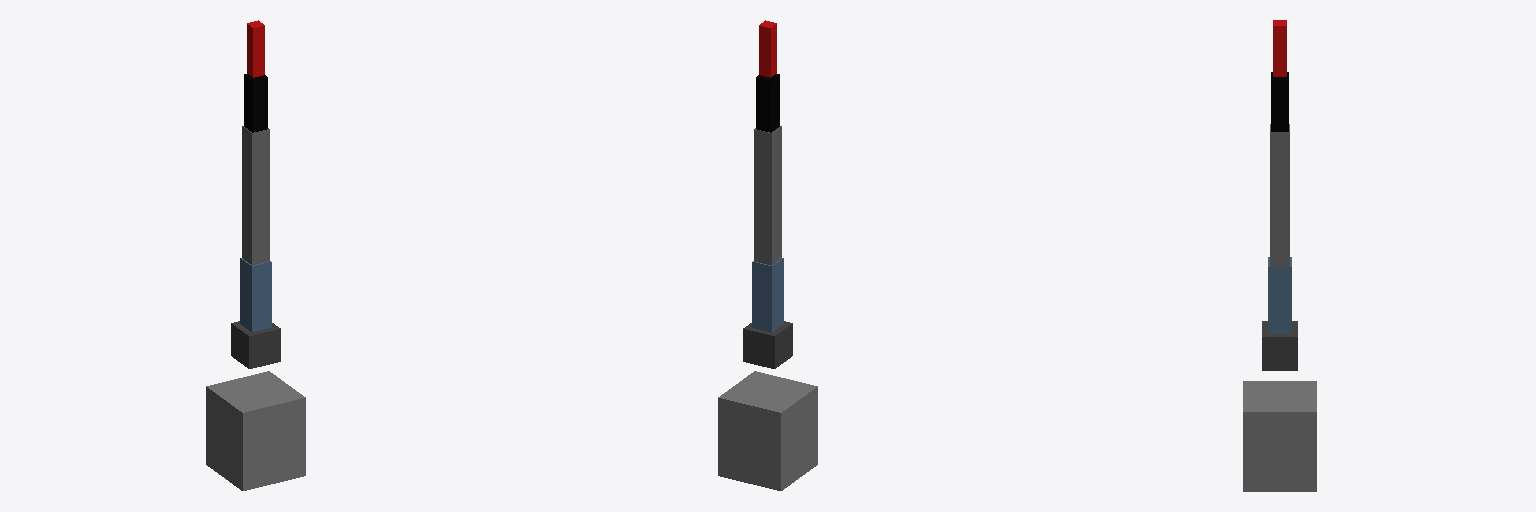
robot.urdf — packing_robot:
<?xml version="1.0"?>
<robot name="packing_robot">

  <link name="base_link">
    <visual>
      <origin xyz="0 0 0.0475"/>
      <geometry><box size="0.080 0.080 0.095"/></geometry>
      <material name="gray"><color rgba="0.5 0.5 0.5 1"/></material>
    </visual>
    <collision>
      <origin xyz="0 0 0.0475"/>
      <geometry><box size="0.080 0.080 0.095"/></geometry>
    </collision>
  </link>

  <link name="link1_base_to_shoulder">
    <visual>
      <origin xyz="0 0 0.020"/>
      <geometry><box size="0.040 0.040 0.040"/></geometry>
      <material name="dark_gray"><color rgba="0.3 0.3 0.3 1"/></material>
    </visual>
    <collision>
      <origin xyz="0 0 0.020"/>
      <geometry><box size="0.040 0.040 0.040"/></geometry>
    </collision>
  </link>

  <joint name="joint1_base_yaw_id1" type="revolute">
    <parent link="base_link"/>
    <child link="link1_base_to_shoulder"/>
    <origin xyz="0 0 0.135" rpy="0 0 0"/>
    <axis xyz="0 0 1"/>
    <limit lower="-3.141593" upper="3.141593" effort="20" velocity="2.0"/>
  </joint>

  <link name="link23_shoulder_to_elbow">
    <visual>
      <origin xyz="0 0 0.060"/>
      <geometry><box size="0.025 0.025 0.120"/></geometry>
      <material name="blue_gray"><color rgba="0.35 0.45 0.55 1"/></material>
    </visual>
    <collision>
      <origin xyz="0 0 0.060"/>
      <geometry><box size="0.025 0.025 0.120"/></geometry>
    </collision>
  </link>

  <joint name="joint23_shoulder_pair_id2_id3" type="revolute">
    <parent link="link1_base_to_shoulder"/>
    <child link="link23_shoulder_to_elbow"/>
    <origin xyz="0 0 0" rpy="0 0 0"/>
    <axis xyz="-1 0 0"/>
    <limit lower="-3.141593" upper="3.141593" effort="15" velocity="1.5"/>
  </joint>

  <link name="link45_elbow_to_wrist">
    <visual>
      <origin xyz="0 0 0.080"/>
      <geometry><box size="0.022 0.022 0.160"/></geometry>
      <material name="steel"><color rgba="0.45 0.45 0.45 1"/></material>
    </visual>
    <collision>
      <origin xyz="0 0 0.080"/>
      <geometry><box size="0.022 0.022 0.160"/></geometry>
    </collision>
  </link>

  <joint name="joint45_elbow_pair_id4_id5" type="revolute">
    <parent link="link23_shoulder_to_elbow"/>
    <child link="link45_elbow_to_wrist"/>
    <origin xyz="0 0 0.120" rpy="0 0 0"/>
    <axis xyz="-1 0 0"/>
    <limit lower="-3.141593" upper="3.141593" effort="15" velocity="1.5"/>
  </joint>

  <link name="link6_wrist_to_gripper_joint">
    <visual>
      <origin xyz="0 0 0.030"/>
      <geometry><box size="0.020 0.020 0.065"/></geometry>
      <material name="black"><color rgba="0.05 0.05 0.05 1"/></material>
    </visual>
    <collision>
      <origin xyz="0 0 0.030"/>
      <geometry><box size="0.020 0.020 0.065"/></geometry>
    </collision>
  </link>

  <joint name="joint6_wrist_id6" type="revolute">
    <parent link="link45_elbow_to_wrist"/>
    <child link="link6_wrist_to_gripper_joint"/>
    <origin xyz="0 0 0.160" rpy="0 0 0"/>
    <axis xyz="-1 0 0"/>
    <limit lower="-3.141593" upper="3.141593" effort="12" velocity="1.5"/>
  </joint>

  <link name="link7_gripper_tcp">
    <visual>
      <origin xyz="0 0 0.030"/>
      <geometry><box size="0.015 0.015 0.060"/></geometry>
      <material name="red"><color rgba="0.8 0.1 0.1 1"/></material>
    </visual>
    <collision>
      <origin xyz="0 0 0.030"/>
      <geometry><box size="0.015 0.015 0.060"/></geometry>
    </collision>
  </link>

  <joint name="joint7_gripper_rotation_id7" type="revolute">
    <parent link="link6_wrist_to_gripper_joint"/>
    <child link="link7_gripper_tcp"/>
    <origin xyz="0 0 0.065" rpy="0 0 0"/>
    <axis xyz="0 1 0"/>
    <limit lower="-3.141593" upper="3.141593" effort="20" velocity="2.0"/>
  </joint>

</robot>

--- Render facts (derived) ---
3 views of the same robot in one strip: view 1: azimuth 30°, elevation 25°; view 2: azimuth 150°, elevation 25°; view 3: azimuth 270°, elevation 25° (orthographic).
Model packing_robot with 6 links and 5 joints (5 revolute), rooted at base_link, posed every joint at zero.
Links seen in each view (by area): view 1: base_link, link45_elbow_to_wrist, link23_shoulder_to_elbow, link1_base_to_shoulder, link6_wrist_to_gripper_joint, link7_gripper_tcp; view 2: base_link, link45_elbow_to_wrist, link23_shoulder_to_elbow, link1_base_to_shoulder, link6_wrist_to_gripper_joint, link7_gripper_tcp; view 3: base_link, link45_elbow_to_wrist, link23_shoulder_to_elbow, link1_base_to_shoulder, link6_wrist_to_gripper_joint, link7_gripper_tcp.
Boxes of the visible links, box(x1,y1,x2,y2) form: base_link: box(206, 371, 305, 490); link45_elbow_to_wrist: box(242, 126, 269, 265); link23_shoulder_to_elbow: box(240, 258, 271, 331); link1_base_to_shoulder: box(231, 321, 280, 368); link6_wrist_to_gripper_joint: box(244, 74, 267, 132); link7_gripper_tcp: box(247, 20, 264, 77); base_link: box(718, 371, 817, 490); link45_elbow_to_wrist: box(754, 126, 781, 265); link23_shoulder_to_elbow: box(752, 258, 783, 331); link1_base_to_shoulder: box(743, 321, 792, 368); link6_wrist_to_gripper_joint: box(756, 74, 779, 132); link7_gripper_tcp: box(759, 20, 776, 77); base_link: box(1243, 381, 1316, 491); link45_elbow_to_wrist: box(1270, 124, 1289, 266); link23_shoulder_to_elbow: box(1268, 257, 1291, 333); link1_base_to_shoulder: box(1262, 321, 1297, 370); link6_wrist_to_gripper_joint: box(1271, 72, 1288, 131); link7_gripper_tcp: box(1273, 20, 1286, 76).
Bounding box of the posed robot: 0.08 × 0.08 × 0.54 m (x, y, z).
Geometry: primitives only (box / cylinder / sphere), no mesh files.
